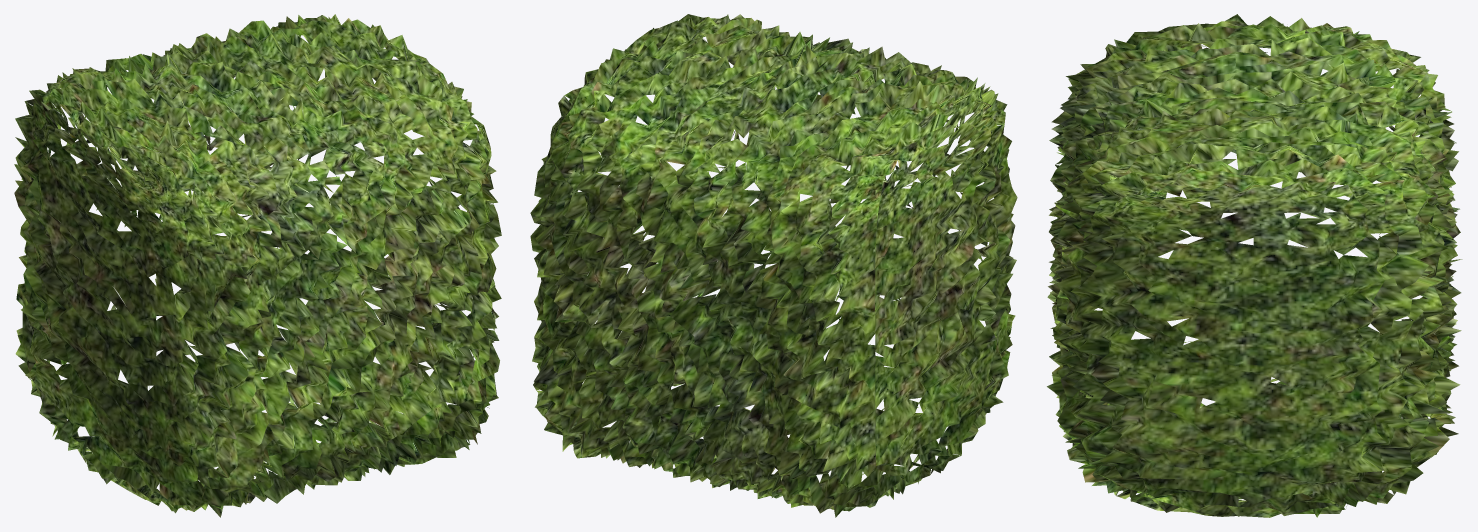
Rendered from sh-scopia-hedge-textured.glb.
3 renders of one model, left to right at view 1: azimuth 30°, elevation 25°; view 2: azimuth 150°, elevation 25°; view 3: azimuth 270°, elevation 25°, orthographic.
Visible parts, largest first — view 1: Cube.001; view 2: Cube.001; view 3: Cube.001.
Boxes of the visible parts, bbox=[...] form: Cube.001: bbox=[14, 14, 501, 517]; Cube.001: bbox=[530, 14, 1017, 517]; Cube.001: bbox=[1047, 14, 1462, 517].
Bounding box in the file's own units: 1 × 1 × 0.9995.
1 material, 1 textured.
